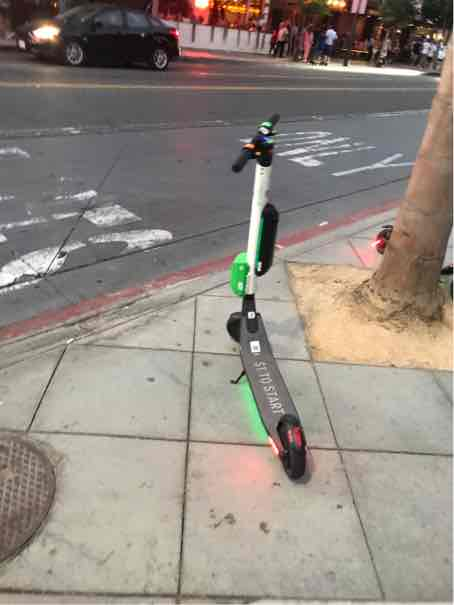scooter: (219, 110, 313, 488)
